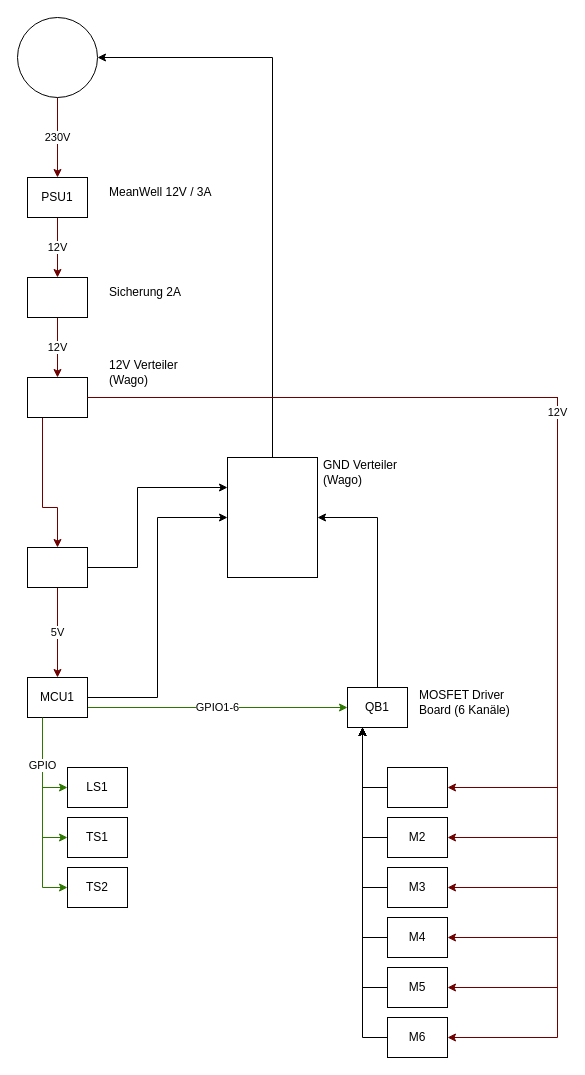
Image size: 585x1075. Some labels were removed from this diagram. Each missing label, with the box of its shape:
DC1: (26, 546, 88, 588)
F1: (26, 276, 88, 318)
GND: (226, 456, 318, 578)
M1: (386, 766, 448, 808)
Steckdose: (16, 16, 98, 98)
